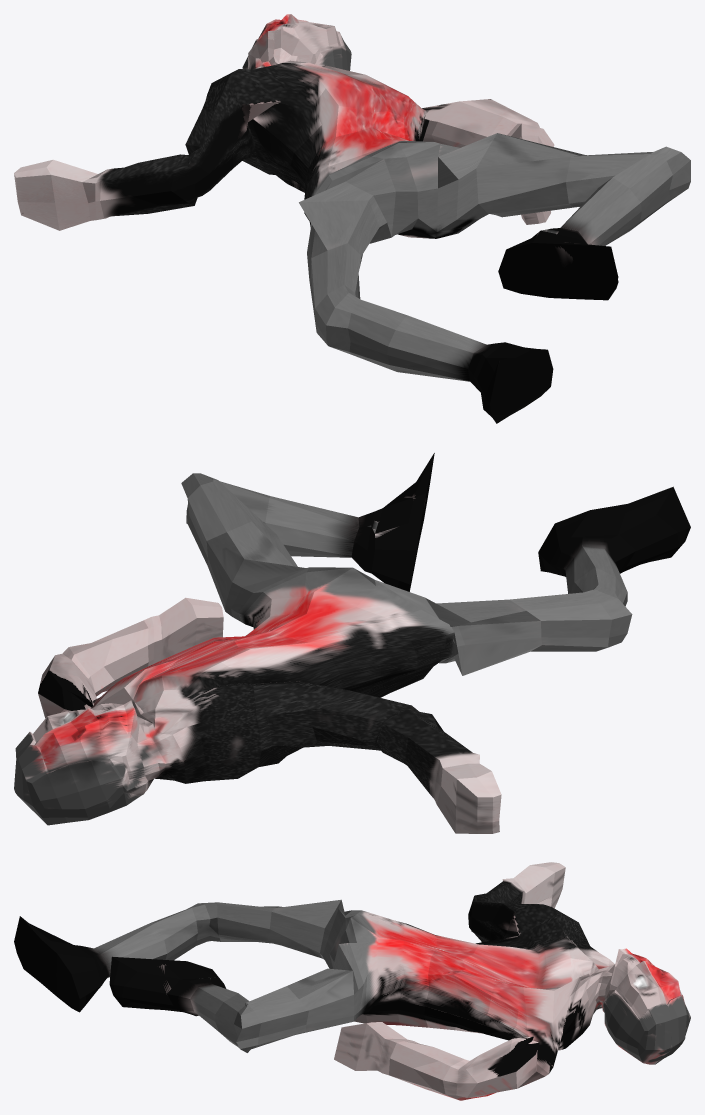
Rendered from Male_Deader_Poses_02.fbx.
3 renders of one model, top to bottom at view 1: azimuth 30°, elevation 25°; view 2: azimuth 150°, elevation 25°; view 3: azimuth 270°, elevation 25°, orthographic. The views are drawn at different scales.
Visible parts, largest first — view 1: MD.003; view 2: MD.003; view 3: MD.003.
Boxes of the visible parts, left/top/right/bottom form: MD.003: left=14, top=14, right=690, bottom=423; MD.003: left=14, top=453, right=690, bottom=833; MD.003: left=14, top=862, right=690, bottom=1100.
Size of the model in its own units: 124 by 31.69 by 181.
1 material, 1 textured.
